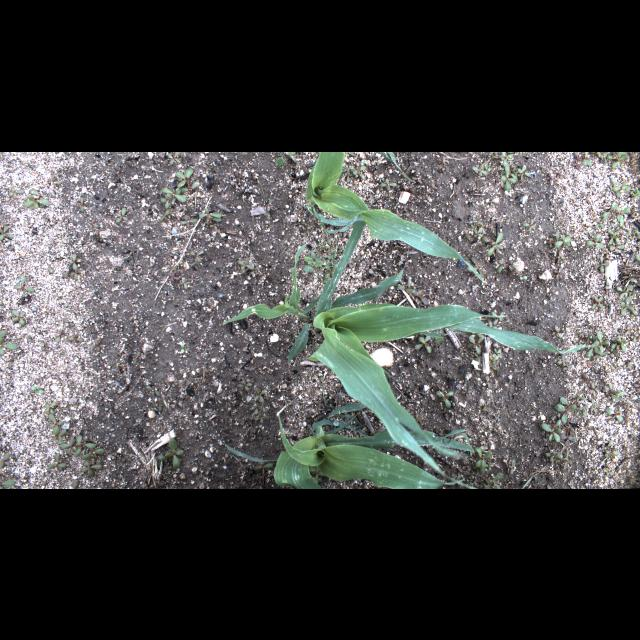crop: (222, 212, 594, 488), (305, 151, 487, 281), (223, 401, 474, 487)
weed: (554, 390, 584, 424), (174, 166, 200, 198), (59, 435, 96, 457), (158, 439, 184, 469), (588, 330, 610, 358), (602, 203, 630, 225), (481, 232, 504, 256), (1, 328, 20, 356), (198, 206, 222, 228), (474, 446, 492, 474), (161, 187, 187, 206), (302, 250, 324, 272), (23, 189, 47, 209), (501, 164, 517, 192), (542, 419, 562, 441), (609, 176, 631, 196), (468, 255, 487, 278), (464, 332, 484, 353), (82, 448, 104, 467), (46, 452, 66, 472), (545, 232, 573, 246), (13, 274, 34, 292), (436, 388, 454, 408), (620, 296, 638, 316), (81, 461, 103, 477), (252, 458, 274, 474), (413, 335, 432, 353), (274, 152, 298, 166), (47, 415, 65, 433), (604, 408, 622, 426), (585, 232, 605, 248), (66, 253, 84, 270), (51, 428, 68, 446), (114, 204, 130, 222), (498, 152, 514, 170), (610, 334, 626, 352), (482, 474, 502, 488), (574, 151, 594, 165), (350, 164, 366, 180), (594, 257, 610, 273), (144, 384, 162, 398), (614, 284, 632, 298), (238, 256, 255, 270), (474, 161, 491, 175), (234, 378, 253, 390), (253, 387, 267, 403), (518, 164, 532, 180), (590, 294, 604, 310), (608, 228, 622, 244), (178, 216, 200, 226), (0, 224, 12, 242), (379, 178, 397, 190), (43, 402, 57, 416), (166, 152, 182, 164), (12, 309, 24, 325), (1, 478, 18, 488), (8, 188, 24, 198), (0, 452, 10, 468), (161, 194, 173, 206), (158, 209, 170, 221), (498, 260, 508, 272), (32, 386, 44, 394)
